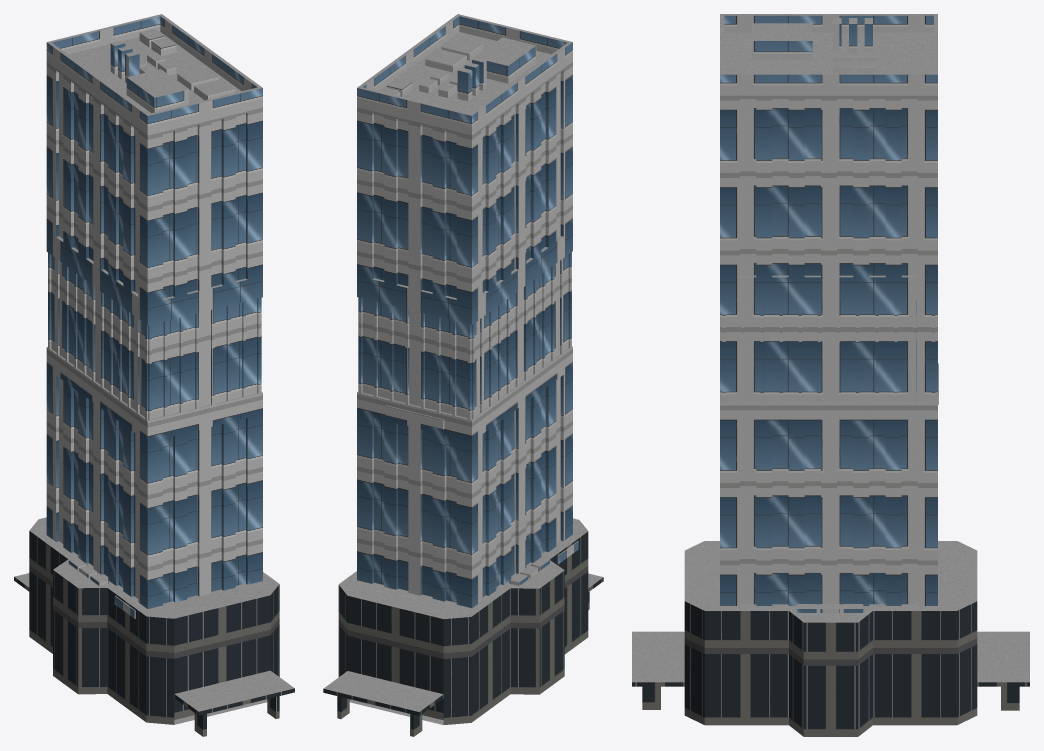
The model's file is Immeuble_4.obj.
3 renders of one model, left to right at view 1: azimuth 30°, elevation 25°; view 2: azimuth 150°, elevation 25°; view 3: azimuth 270°, elevation 25°, orthographic. The views are drawn at different scales.
Visible parts, largest first — view 1: Immeuble; view 2: Immeuble; view 3: Immeuble.
Part boxes in pixels (bbox=[...]): Immeuble: bbox=[14, 14, 294, 736]; Immeuble: bbox=[323, 14, 603, 736]; Immeuble: bbox=[632, 14, 1029, 736].
Size of the model in its own units: 8.28 by 27.23 by 14.89.
3 materials, 3 textured.
